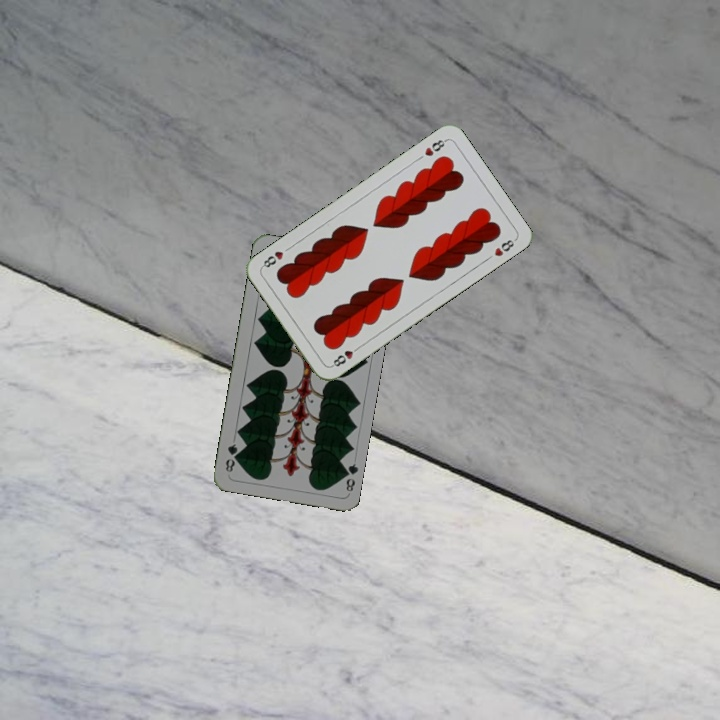G8: (338, 459, 360, 494)
H8: (327, 342, 363, 369), (420, 135, 449, 159)
